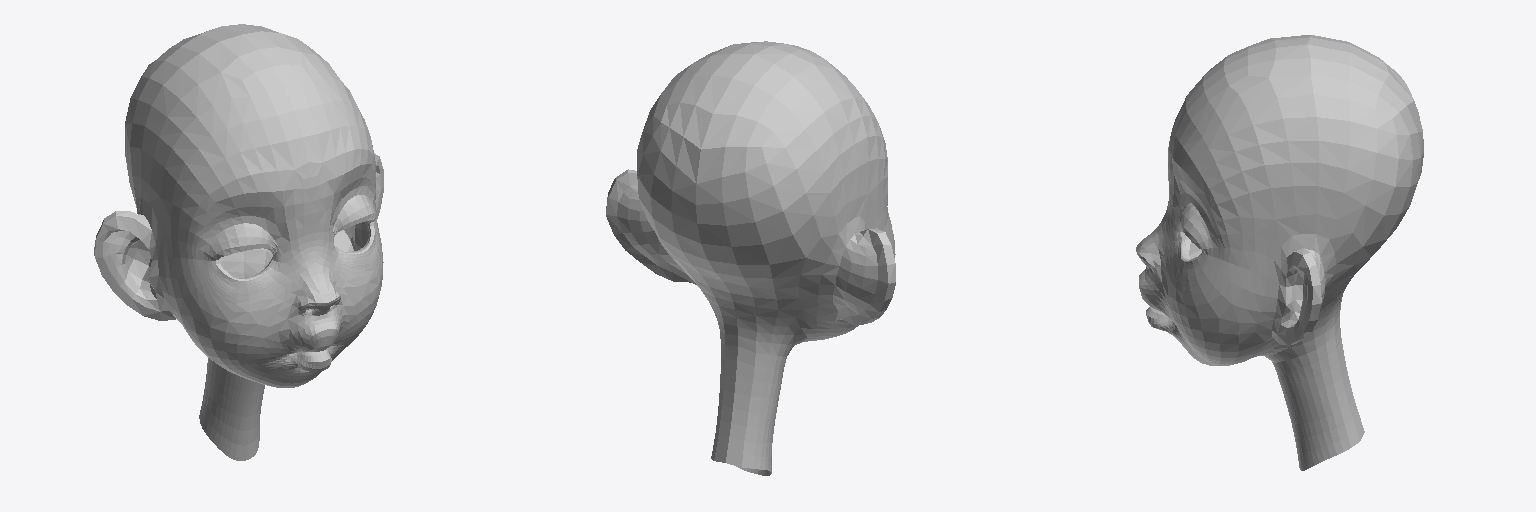
Rendered from lipTightner.obj.
The picture shows the model from 3 angles: view 1: azimuth 30°, elevation 25°; view 2: azimuth 150°, elevation 25°; view 3: azimuth 270°, elevation 25°; orthographic projection.
Parts seen in each view (by area): view 1: ZBrushPolyMesh3D; view 2: ZBrushPolyMesh3D; view 3: ZBrushPolyMesh3D.
Boxes of the visible parts, <box> form: ZBrushPolyMesh3D: <box>94,24,383,460</box>; ZBrushPolyMesh3D: <box>606,41,895,475</box>; ZBrushPolyMesh3D: <box>1136,35,1423,470</box>.
Bounding box in the file's own units: 5.74 × 8.03 × 4.96.